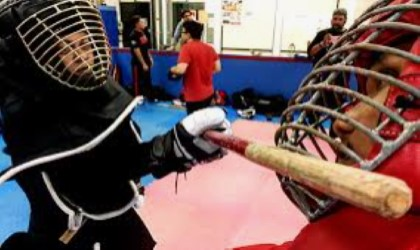baston_e: (214, 109, 326, 204)
baston_v: (337, 148, 418, 224)
